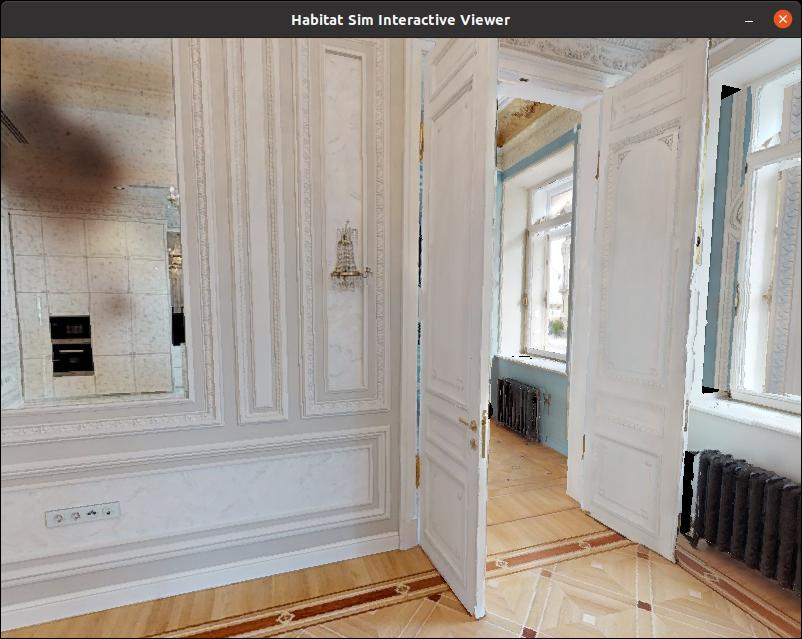door: (583, 41, 724, 548), (417, 41, 500, 631)
door-frame: (463, 69, 594, 539)
